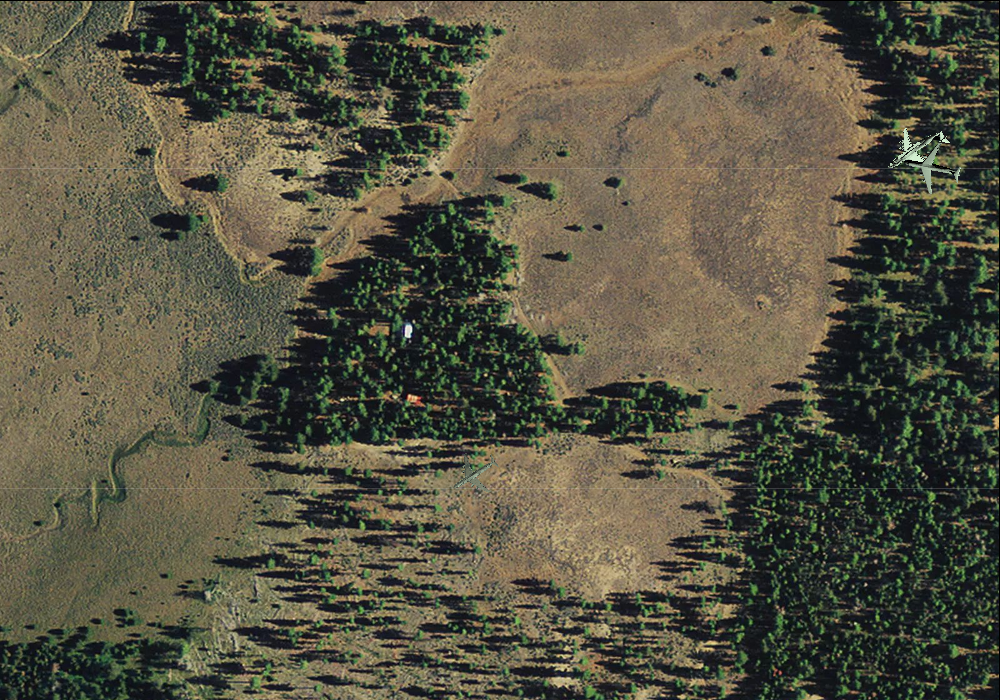plane: (874, 108, 961, 193), (440, 440, 509, 507), (899, 135, 966, 201)
